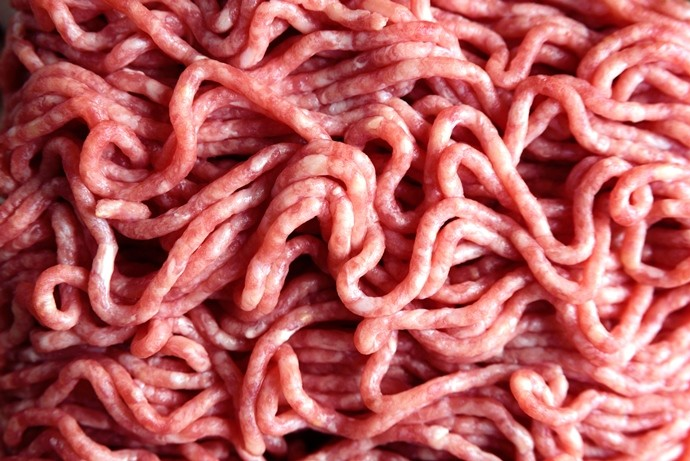ground_beef: (367, 36, 682, 407), (29, 23, 326, 337)
